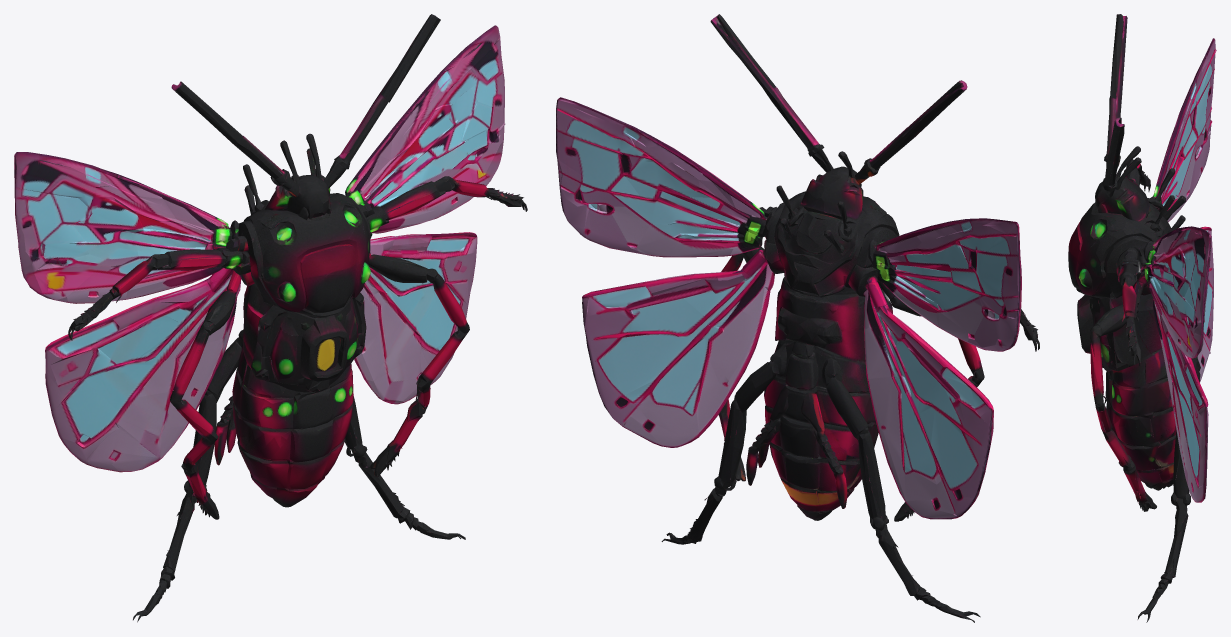
The model's file is dial_up_queen.glb.
3 renders of one model, left to right at view 1: azimuth 30°, elevation 25°; view 2: azimuth 150°, elevation 25°; view 3: azimuth 270°, elevation 25°, orthographic. The views are drawn at different scales.
Bounding box in the file's own units: 1.76 × 1.91 × 0.524.
Materials: 1 (1 with a texture image).
